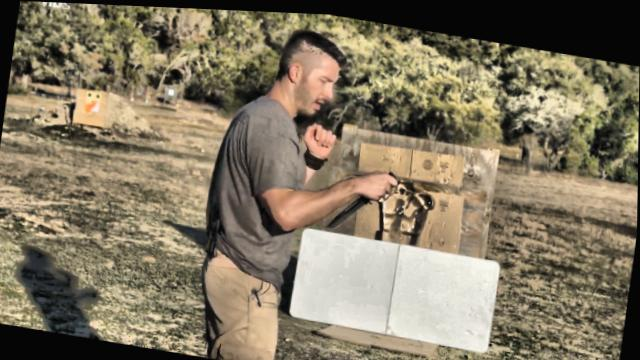knife: (316, 156, 397, 235)
